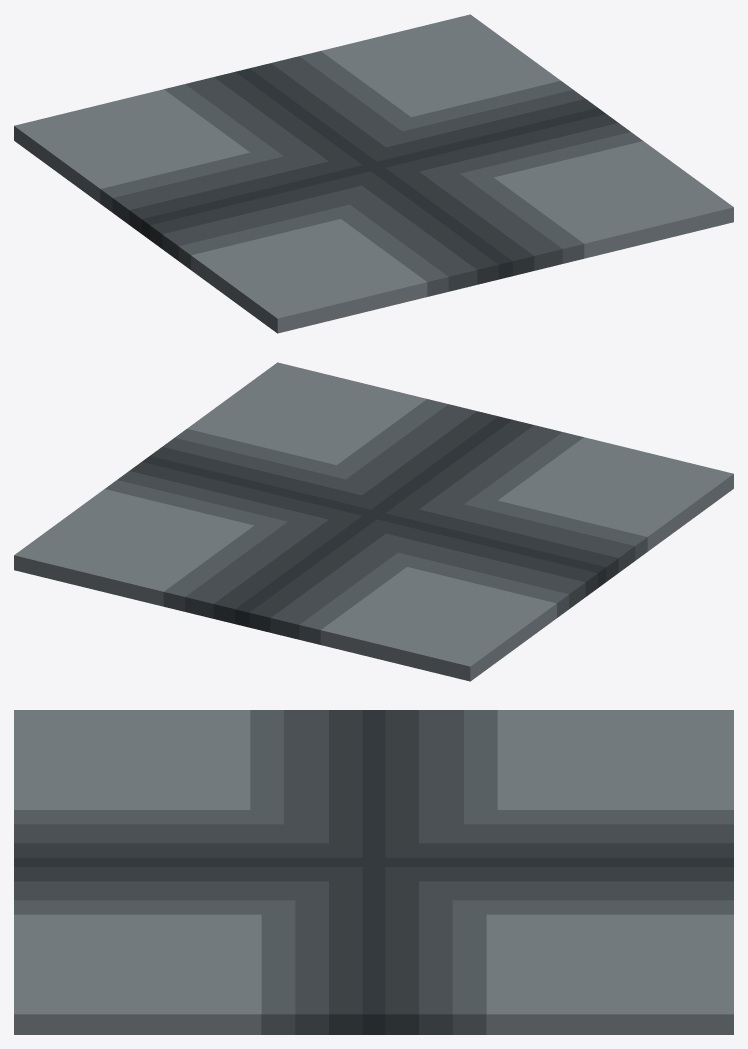
Rendered from inside_classroom_lantai.obj.
The picture shows the model from 3 angles, top to bottom: view 1: azimuth 30°, elevation 25°; view 2: azimuth 150°, elevation 25°; view 3: azimuth 270°, elevation 25°; orthographic projection. The views are drawn at different scales.
Size of the model in its own units: 6.4 by 0.2 by 6.4.
1 material, 1 textured.
